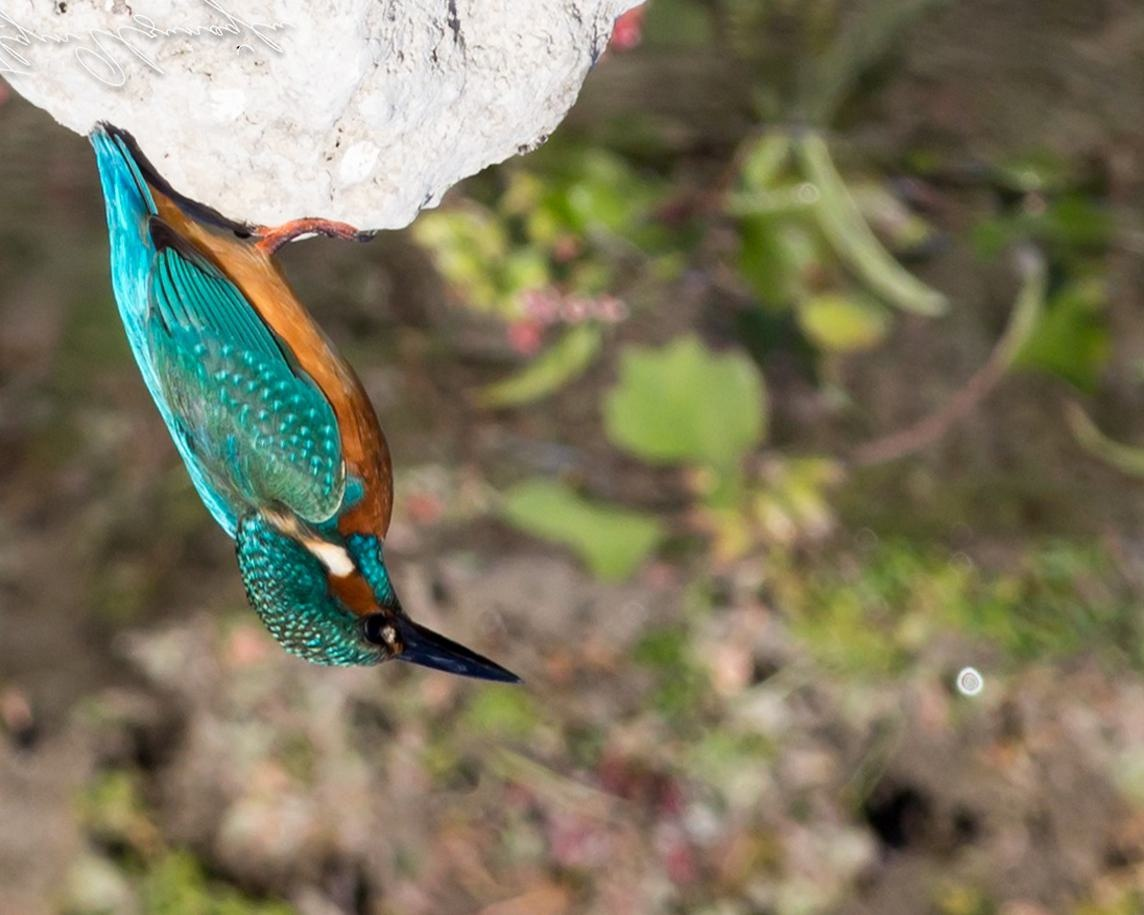kingfisher: (57, 128, 532, 694)
